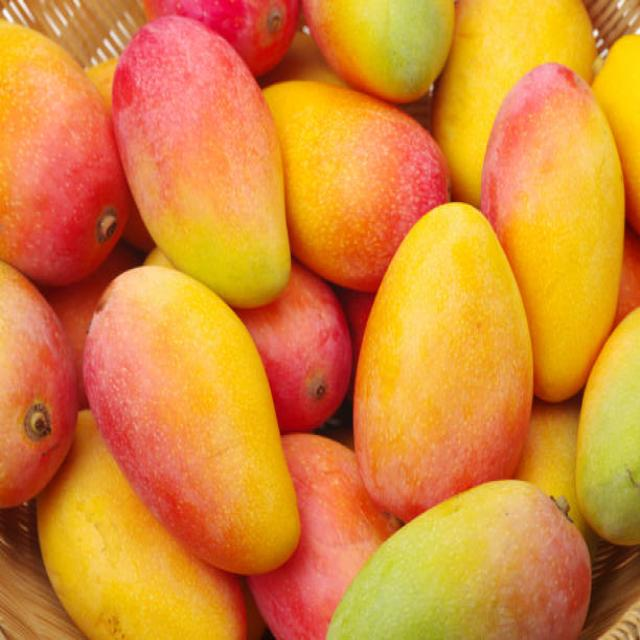mango: (84, 267, 300, 574), (354, 203, 532, 521), (111, 15, 290, 307), (480, 63, 625, 402), (38, 412, 245, 638), (328, 480, 590, 638), (264, 82, 449, 291), (0, 20, 131, 284), (431, 0, 596, 206), (248, 433, 396, 638), (236, 262, 352, 432), (0, 260, 78, 506), (302, 0, 454, 102), (576, 307, 639, 544)
